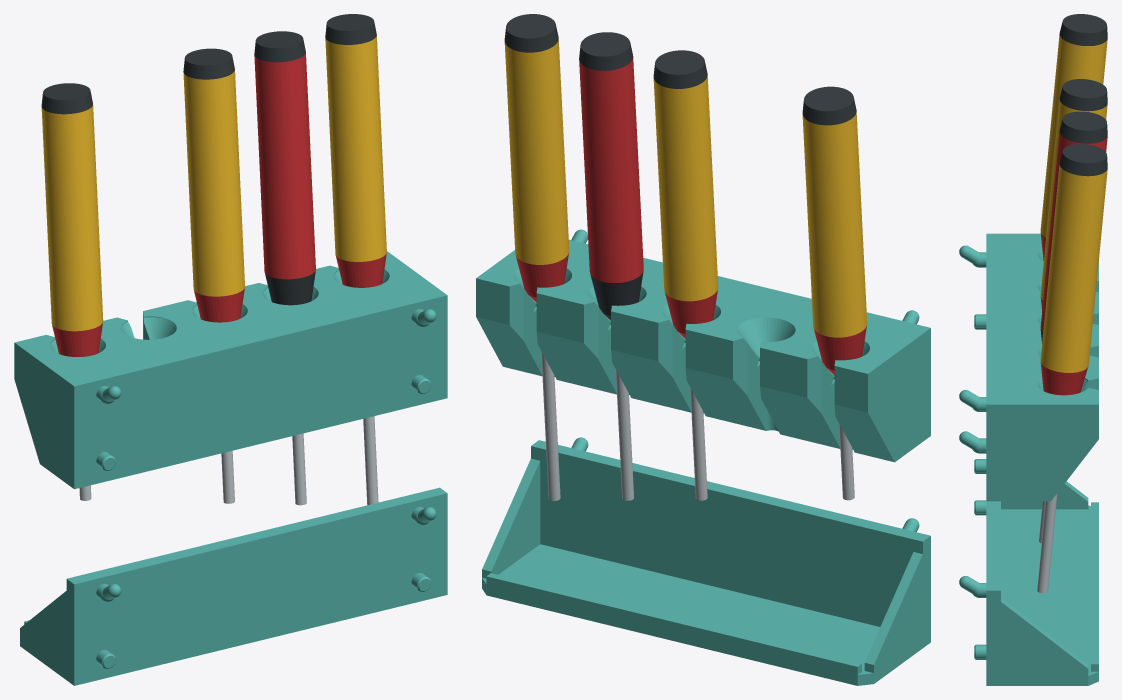
File: part-sd02__v2__loaded-review.glb
The picture shows the model from 3 angles, left to right: view 1: azimuth 30°, elevation 25°; view 2: azimuth 150°, elevation 25°; view 3: azimuth 270°, elevation 25°; orthographic projection. The views are drawn at different scales.
Visible parts, largest first — view 1: Actual holder mesh, Actual holder mesh.001, Illustrative screwdriver envelope.006, Illustrative screwdriver envelope.002, Illustrative screwdriver envelope.010, Illustrative screwdriver envelope.014, Illustrative screwdriver envelope.011, Illustrative screwdriver envelope.003, Illustrative screwdriver envelope.007, Illustrative screwdriver envelope.015, Illustrative screwdriver envelope.005, Illustrative screwdriver envelope.013 (+4 smaller); view 2: Actual holder mesh.001, Actual holder mesh, Illustrative screwdriver envelope.006, Illustrative screwdriver envelope.014, Illustrative screwdriver envelope.002, Illustrative screwdriver envelope.010, Illustrative screwdriver envelope.003, Illustrative screwdriver envelope.007, Illustrative screwdriver envelope.011, Illustrative screwdriver envelope.015, Illustrative screwdriver envelope.012, Illustrative screwdriver envelope.008 (+6 smaller); view 3: Actual holder mesh, Actual holder mesh.001, Illustrative screwdriver envelope.014, Illustrative screwdriver envelope.002, Illustrative screwdriver envelope.011, Illustrative screwdriver envelope.015, Illustrative screwdriver envelope.007, Illustrative screwdriver envelope.003, Illustrative screwdriver envelope.012, Illustrative screwdriver envelope.010, Illustrative screwdriver envelope.006, Illustrative screwdriver envelope.013.
Boxes of the visible parts, box(x1,y1,x2,y2) form: Actual holder mesh: box(14, 251, 447, 489); Actual holder mesh.001: box(20, 487, 447, 685); Illustrative screwdriver envelope.006: box(183, 70, 244, 296); Illustrative screwdriver envelope.002: box(41, 105, 103, 331); Illustrative screwdriver envelope.010: box(254, 53, 315, 279); Illustrative screwdriver envelope.014: box(325, 35, 386, 261); Illustrative screwdriver envelope.011: box(254, 31, 305, 62); Illustrative screwdriver envelope.003: box(41, 83, 92, 114); Illustrative screwdriver envelope.007: box(183, 48, 234, 79); Illustrative screwdriver envelope.015: box(325, 14, 376, 44); Illustrative screwdriver envelope.005: box(194, 288, 244, 322); Illustrative screwdriver envelope.013: box(335, 253, 386, 287); Actual holder mesh.001: box(482, 437, 930, 685); Actual holder mesh: box(476, 229, 930, 462); Illustrative screwdriver envelope.006: box(653, 76, 718, 301); Illustrative screwdriver envelope.014: box(504, 40, 569, 264); Illustrative screwdriver envelope.002: box(802, 112, 867, 337); Illustrative screwdriver envelope.010: box(579, 57, 643, 282); Illustrative screwdriver envelope.003: box(802, 86, 856, 125); Illustrative screwdriver envelope.007: box(653, 50, 707, 88); Illustrative screwdriver envelope.011: box(579, 32, 633, 70); Illustrative screwdriver envelope.015: box(504, 14, 558, 52); Illustrative screwdriver envelope.012: box(541, 351, 560, 500); Illustrative screwdriver envelope.008: box(615, 369, 634, 500); Actual holder mesh: box(959, 233, 1098, 501); Actual holder mesh.001: box(959, 431, 1098, 685); Illustrative screwdriver envelope.014: box(1040, 164, 1107, 372); Illustrative screwdriver envelope.002: box(1040, 34, 1107, 237); Illustrative screwdriver envelope.011: box(1059, 111, 1107, 143); Illustrative screwdriver envelope.015: box(1059, 144, 1107, 176); Illustrative screwdriver envelope.007: box(1059, 79, 1107, 111); Illustrative screwdriver envelope.003: box(1059, 14, 1107, 45); Illustrative screwdriver envelope.012: box(1037, 493, 1057, 593); Illustrative screwdriver envelope.010: box(1040, 132, 1107, 332); Illustrative screwdriver envelope.006: box(1040, 99, 1107, 300); Illustrative screwdriver envelope.013: box(1040, 362, 1088, 395).
Size of the model in its own units: 0.1504 by 0.2105 by 0.0552.
